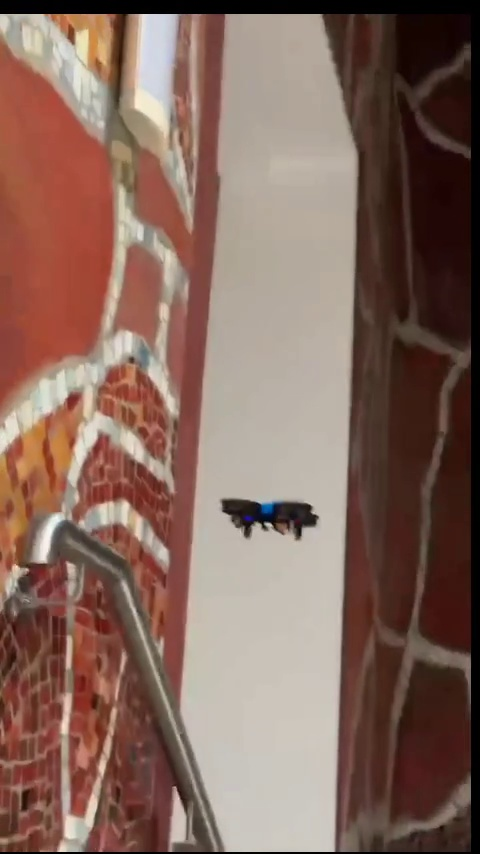drone: (219, 493, 320, 543)
